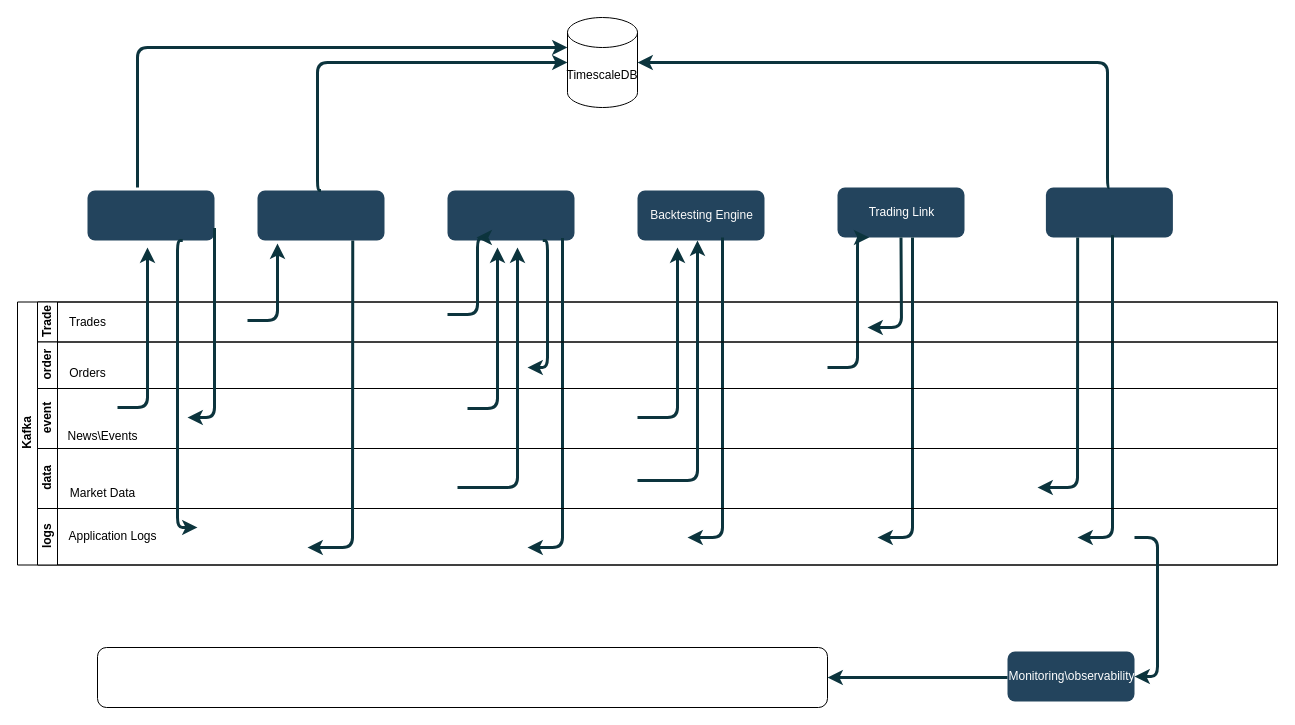
The diagram is 1295 pixels wide and 725 high, and some of its shapes have lost their labels. The shapes that lost their labels are listed below. From the top down, each one's centre as x and y in pixels, then its label:
At point (150, 215): "NLP\Sentiment Service".
At point (320, 215): "Position Management\ Risk Engine".
At point (510, 215): "AlgoTrader".
At point (1108, 212): "MarketData Link".
At point (462, 677): "WEB Server \ UI".
